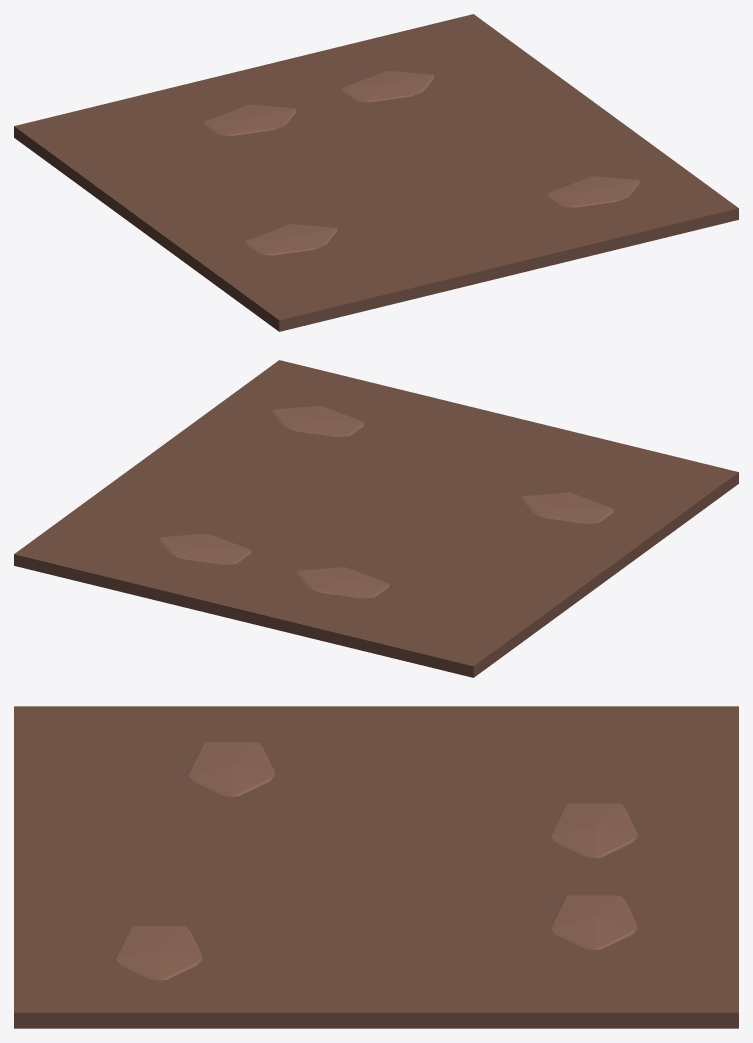
Rendered from SH10_L03_Ground.fbx.
3 renders of one model, top to bottom at view 1: azimuth 30°, elevation 25°; view 2: azimuth 150°, elevation 25°; view 3: azimuth 270°, elevation 25°, orthographic. The views are drawn at different scales.
Visible parts, largest first — view 1: SH10_L03_Ground; view 2: SH10_L03_Ground; view 3: SH10_L03_Ground.
Boxes of the visible parts, left/top/right/bottom form: SH10_L03_Ground: left=14, top=14, right=738, bottom=331; SH10_L03_Ground: left=14, top=360, right=738, bottom=677; SH10_L03_Ground: left=14, top=706, right=738, bottom=1028.
Size of the model in its own units: 1000 by 28.5 by 1000.
